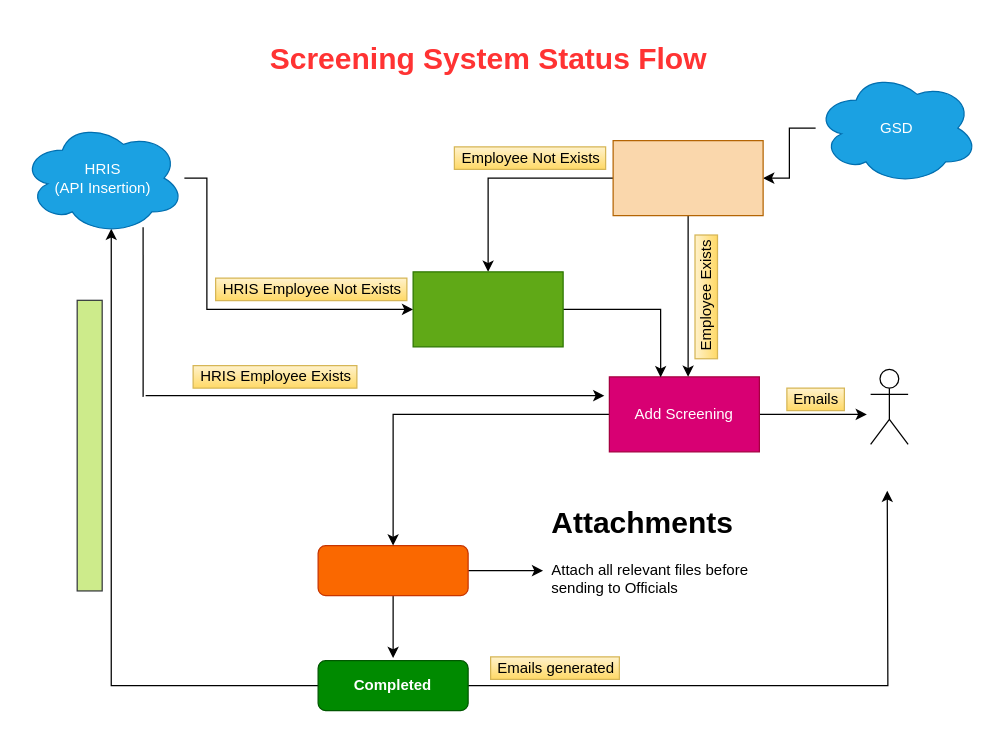
Image size: 1000x733. Some labels were removed from this diagram. The shapes that lost their labels are listed below. From the top down, each one's centre as x and y in pixels, then its label:
At point (687, 177): "List of employees and screening".
At point (487, 309): "Add employee".
At point (888, 406): "Actor".
At point (89, 445): "Update HRIS - Result, update emp ID".
At point (392, 570): "Pending".
